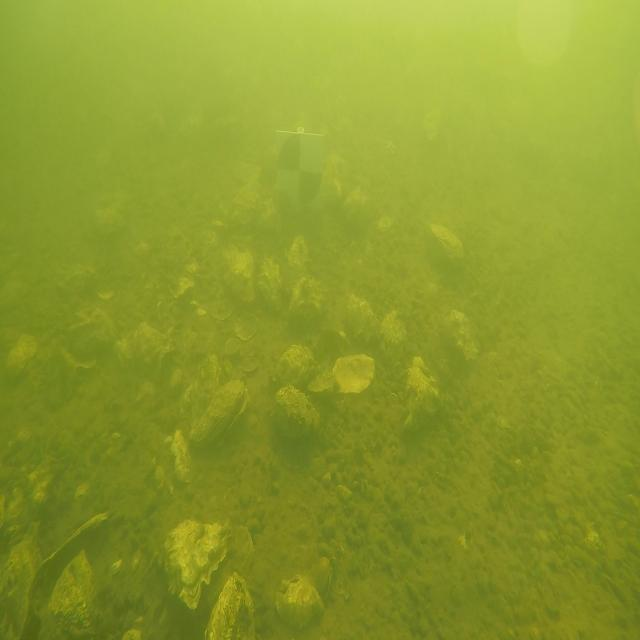Oyster- Indeterminate: (56, 262, 99, 296)
Oyster-Closed: (164, 520, 252, 609), (0, 522, 41, 639), (205, 573, 255, 640), (118, 322, 172, 376), (65, 307, 116, 364), (404, 356, 441, 431), (276, 576, 324, 629), (426, 222, 465, 284), (275, 384, 319, 438), (274, 344, 318, 387), (445, 311, 478, 360), (225, 247, 254, 302), (346, 296, 380, 342), (289, 278, 322, 321), (380, 311, 406, 362), (286, 236, 310, 287), (259, 258, 282, 311)
Oyster-Open: (22, 513, 109, 640), (180, 353, 249, 447), (332, 353, 375, 393)
